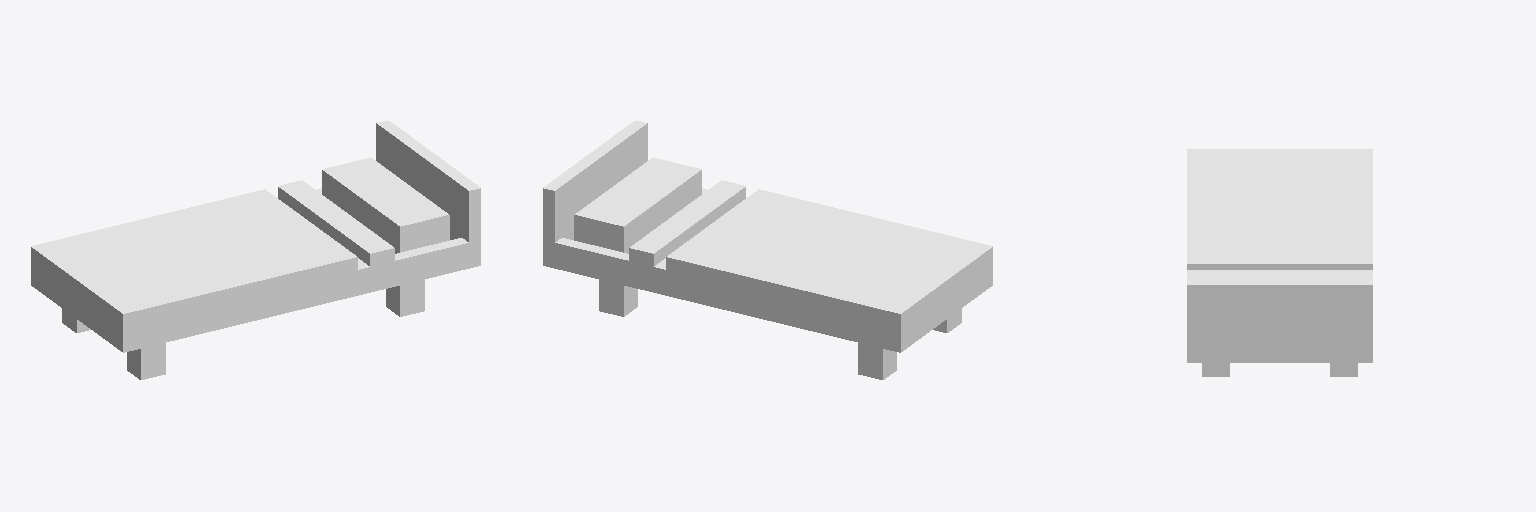
The model's file is bed.obj.
3 renders of one model, left to right at view 1: azimuth 30°, elevation 25°; view 2: azimuth 150°, elevation 25°; view 3: azimuth 270°, elevation 25°, orthographic.
Visible parts, largest first — view 1: object 1; view 2: object 1; view 3: object 1.
Boxes of the visible parts, <box> form: object 1: <box>31,120,480,379</box>; object 1: <box>543,120,992,379</box>; object 1: <box>1187,149,1372,376</box>.
Size of the model in its own units: 2.9 by 0.9 by 1.3.